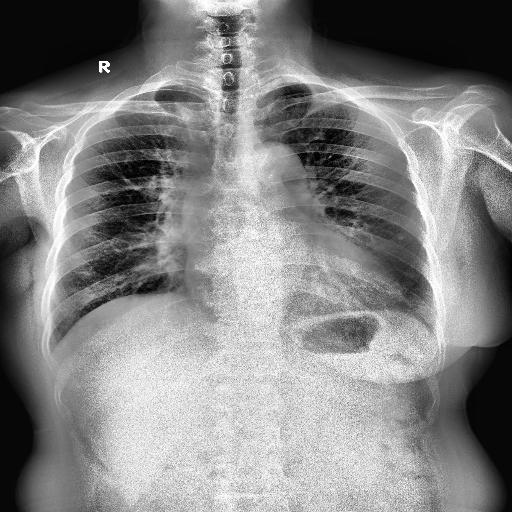0- Aortic enlargement: (251, 143, 310, 218), (254, 140, 308, 204), (183, 172, 213, 251), (256, 144, 304, 191)
3- Cardiomegaly: (183, 232, 403, 314), (182, 256, 408, 313), (182, 262, 404, 310)
